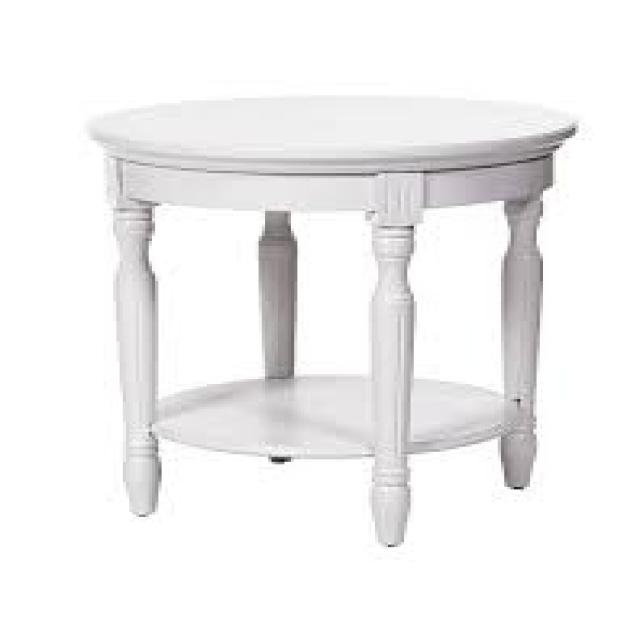obstacle: (82, 53, 604, 553)
